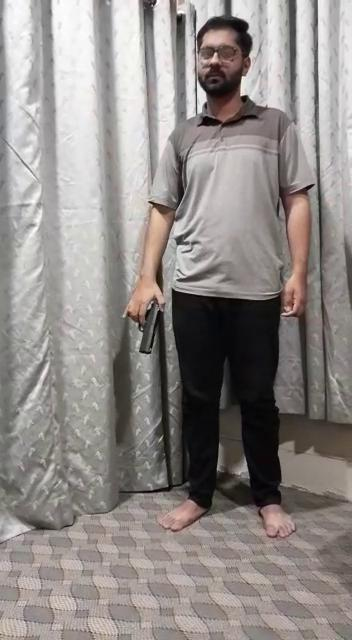criminal: (123, 15, 320, 541)
weapon: (124, 295, 169, 358)
